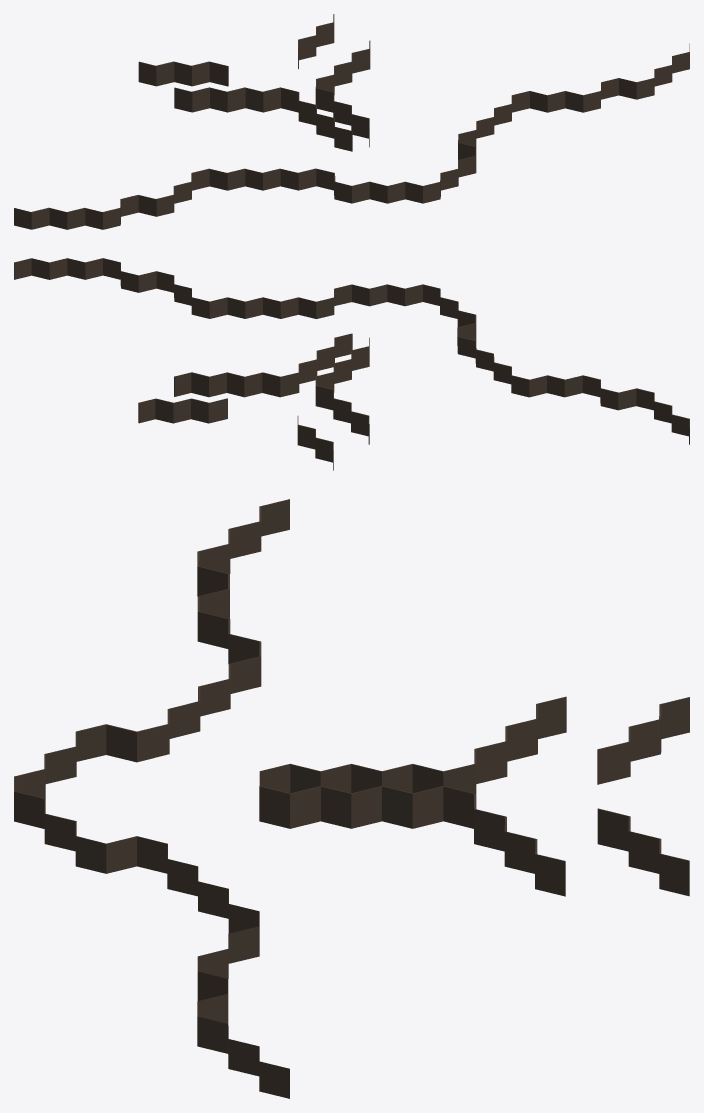
Rendered from Stage1InviWalls.fbx.
3 views of the same model, one above another, from view 1: azimuth 30°, elevation 25°; view 2: azimuth 150°, elevation 25°; view 3: azimuth 270°, elevation 25° (orthographic). The views are drawn at different scales.
Visible parts, largest first — view 1: Inviwalls3, Inviwalls1, Inviwalls2, Inviwalls4, Inviwalls5; view 2: Inviwalls3, Inviwalls2, Inviwalls1, Inviwalls5, Inviwalls4; view 3: Inviwalls3, Inviwalls2, Inviwalls1, Inviwalls5, Inviwalls4.
Part boxes in pixels (bbox=[...]): Inviwalls3: bbox=[14, 43, 689, 229]; Inviwalls1: bbox=[174, 87, 352, 151]; Inviwalls2: bbox=[315, 40, 370, 147]; Inviwalls4: bbox=[138, 61, 228, 86]; Inviwalls5: bbox=[298, 14, 334, 69]; Inviwalls3: bbox=[14, 258, 689, 444]; Inviwalls2: bbox=[174, 333, 352, 397]; Inviwalls1: bbox=[315, 337, 369, 444]; Inviwalls5: bbox=[138, 398, 227, 423]; Inviwalls4: bbox=[297, 416, 333, 470]; Inviwalls3: bbox=[14, 499, 289, 1098]; Inviwalls2: bbox=[259, 786, 565, 896]; Inviwalls1: bbox=[259, 696, 566, 793]; Inviwalls5: bbox=[597, 808, 689, 896]; Inviwalls4: bbox=[597, 697, 689, 784].
Size of the model in its own units: 353 by 10.18 by 177.
